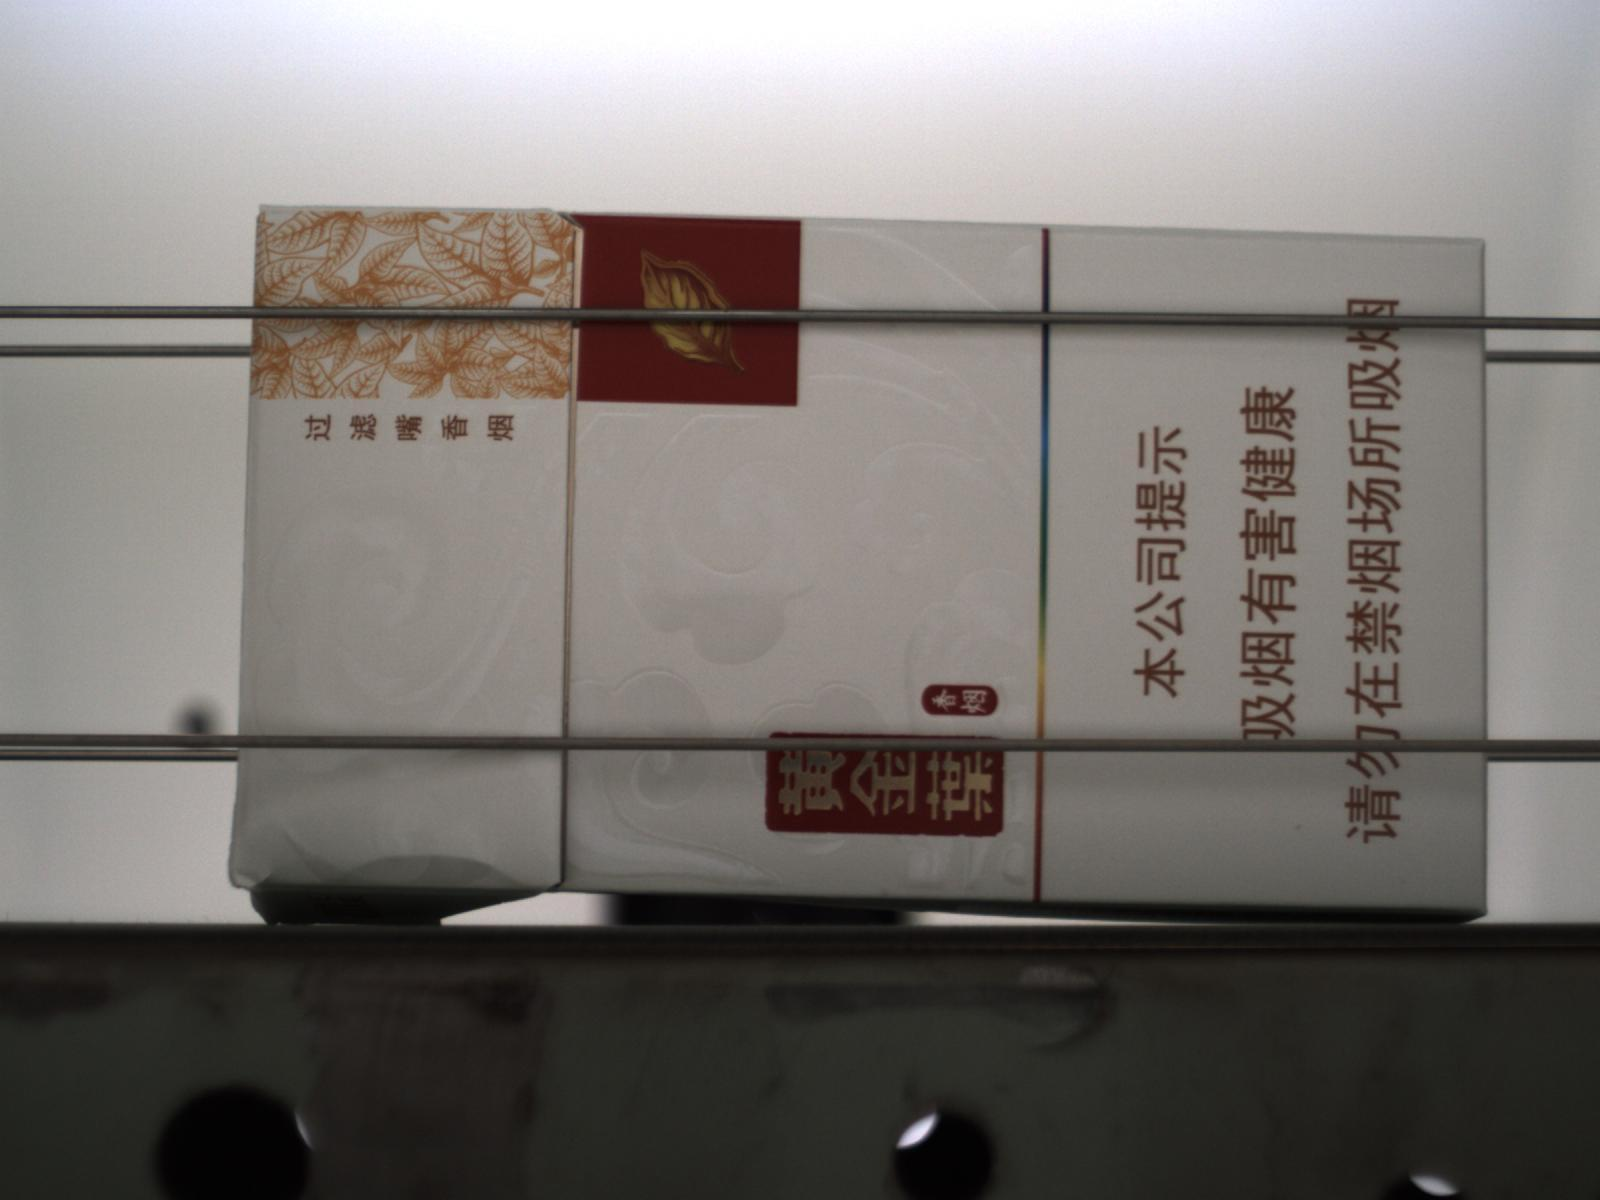crease_corner_heavy: (222, 853, 283, 905)
dirtySpot: (1293, 821, 1303, 832)
lower_upwarp: (236, 881, 554, 928)
